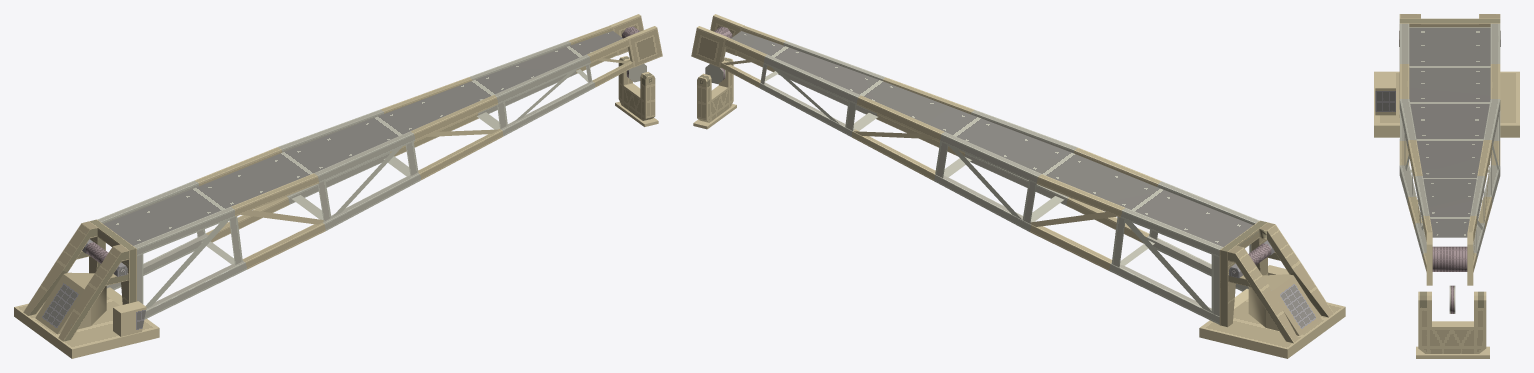
File: 035c_Crane_L.glb
The picture shows the model from 3 angles, left to right: view 1: azimuth 30°, elevation 25°; view 2: azimuth 150°, elevation 25°; view 3: azimuth 270°, elevation 25°; orthographic projection. The views are drawn at different scales.
Visible parts, largest first — view 1: part_0; view 2: part_0; view 3: part_0.
Part boxes in pixels (x1,y1,x2,y2): part_0: [14, 14, 662, 358]; part_0: [691, 14, 1345, 358]; part_0: [1374, 14, 1519, 358].
Size of the model in its own units: 132 by 35.94 by 21.7.
Materials: 1 (1 with a texture image).
